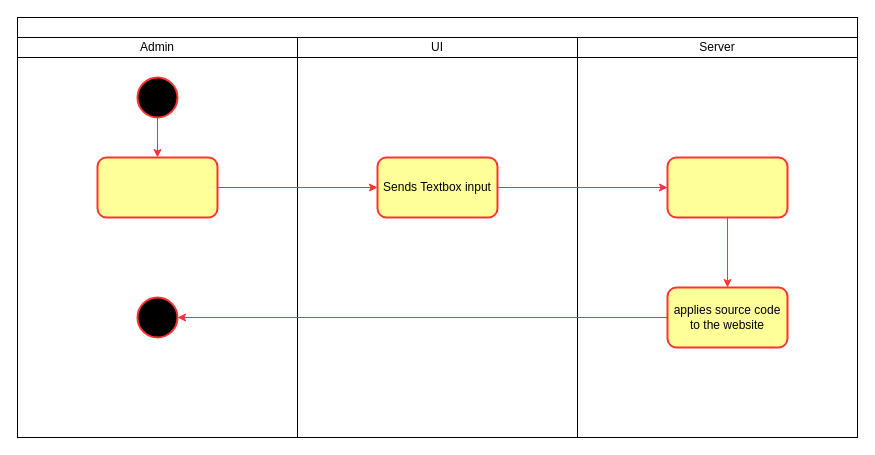
This 875x455 diagram has some shape labels left out. The shapes that lost their labels are listed below. From the top down, each one's centre as x and y in pixels, then its label:
point 437,27: Access AdminWindow
point 157,187: presses "Save" Button
point 727,187: saves current source code as backup
